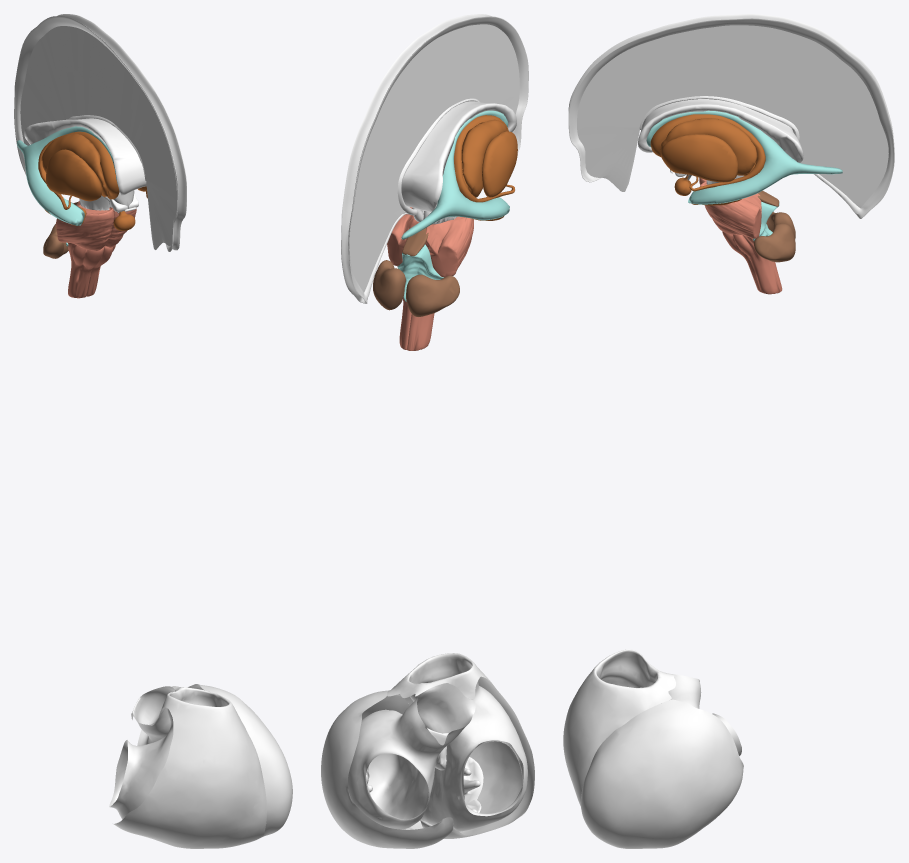
The model's file is brain_vessels.glb.
3 renders of one model, left to right at view 1: azimuth 30°, elevation 25°; view 2: azimuth 150°, elevation 25°; view 3: azimuth 270°, elevation 25°, orthographic. The views are drawn at different scales.
Visible parts, largest first — view 1: Right ventricle, Falx cerebri, Left ventricle, Corpus callosum, Lateral ventricle.r, Putamen.r, Pons.r, Lentiform nucleus.r, Medulla oblongata.r, Caudate nucleus.r; view 2: Falx cerebri, Left ventricle, Right ventricle, Corpus callosum, Lateral ventricle.r, Pons.r, Putamen.r, Tonsil of cerebellum.r, Lentiform nucleus.r, Tonsil of cerebellum.l, Caudate nucleus.r, Fourth ventricle (+5 smaller); view 3: Falx cerebri, Left ventricle, Right ventricle, Lateral ventricle.l, Putamen.l, Corpus callosum, Lentiform nucleus.l, Pons.l, Medulla oblongata.l, Caudate nucleus.l, Tonsil of cerebellum.l.
Part boxes in pixels (<box>): Right ventricle: <box>109,686,266,848</box>; Falx cerebri: <box>14,14,186,251</box>; Left ventricle: <box>131,684,292,836</box>; Corpus callosum: <box>24,118,146,195</box>; Lateral ventricle.r: <box>17,126,117,225</box>; Putamen.r: <box>46,149,101,201</box>; Pons.r: <box>55,201,114,250</box>; Lentiform nucleus.r: <box>41,133,108,196</box>; Medulla oblongata.r: <box>67,243,103,298</box>; Caudate nucleus.r: <box>38,131,119,209</box>; Falx cerebri: <box>341,14,528,303</box>; Left ventricle: <box>321,683,475,848</box>; Right ventricle: <box>387,653,534,838</box>; Corpus callosum: <box>401,101,516,212</box>; Lateral ventricle.r: <box>401,110,509,239</box>; Pons.r: <box>425,216,473,277</box>; Putamen.r: <box>482,131,517,197</box>; Tonsil of cerebellum.r: <box>406,274,459,316</box>; Lentiform nucleus.r: <box>461,119,507,197</box>; Tonsil of cerebellum.l: <box>373,260,405,310</box>; Caudate nucleus.r: <box>454,115,514,202</box>; Fourth ventricle: <box>397,244,443,301</box>; Falx cerebri: <box>568,14,894,218</box>; Left ventricle: <box>580,674,743,848</box>; Right ventricle: <box>563,649,676,806</box>; Lateral ventricle.l: <box>646,110,842,204</box>; Putamen.l: <box>660,134,738,182</box>; Corpus callosum: <box>638,99,803,162</box>; Lentiform nucleus.l: <box>660,118,757,175</box>; Pons.l: <box>700,181,761,238</box>; Medulla oblongata.l: <box>722,231,782,294</box>; Caudate nucleus.l: <box>650,114,765,191</box>; Tonsil of cerebellum.l: <box>754,223,795,262</box>.
Bounding box in the file's own units: 0.1199 × 0.4638 × 0.1776.
